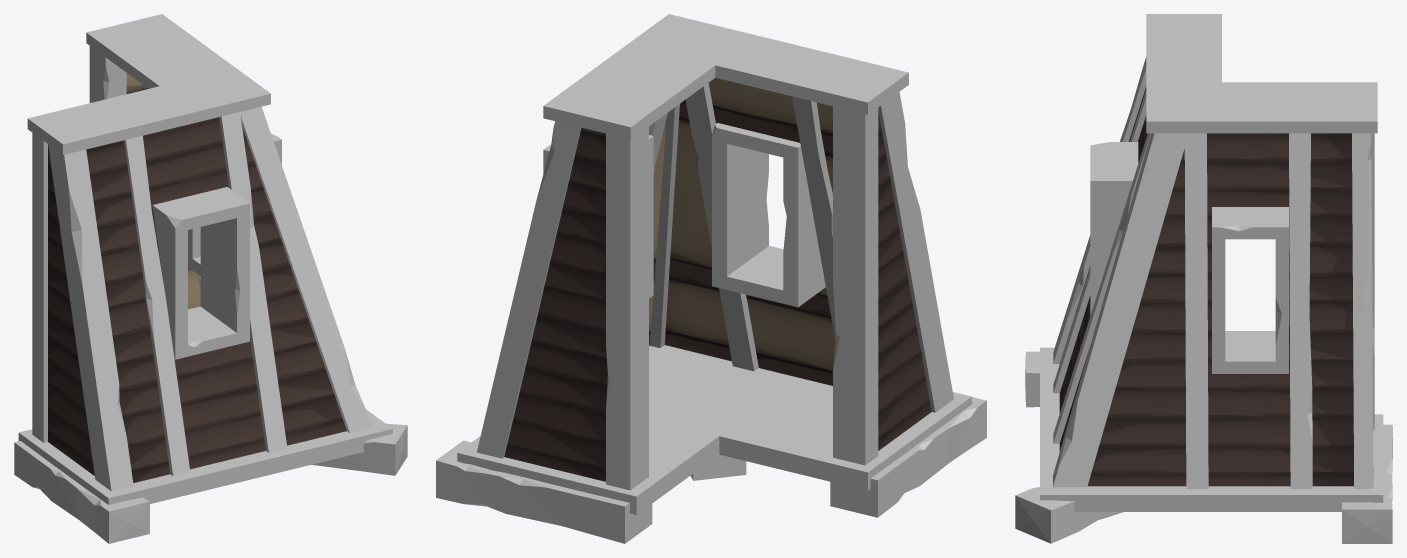
The model's file is SM_Bld_Alcove_Corner_01.fbx.
The picture shows the model from 3 angles, left to right: view 1: azimuth 30°, elevation 25°; view 2: azimuth 150°, elevation 25°; view 3: azimuth 270°, elevation 25°; orthographic projection. The views are drawn at different scales.
Parts seen in each view (by area): view 1: SM_Bld_Alcove_Corner_01; view 2: SM_Bld_Alcove_Corner_01; view 3: SM_Bld_Alcove_Corner_01.
Part boxes in pixels (left/top/right/bottom): SM_Bld_Alcove_Corner_01: left=14, top=14, right=407, bottom=543; SM_Bld_Alcove_Corner_01: left=436, top=14, right=986, bottom=543; SM_Bld_Alcove_Corner_01: left=1015, top=14, right=1392, bottom=543.
Size of the model in its own units: 306 by 334 by 302.
